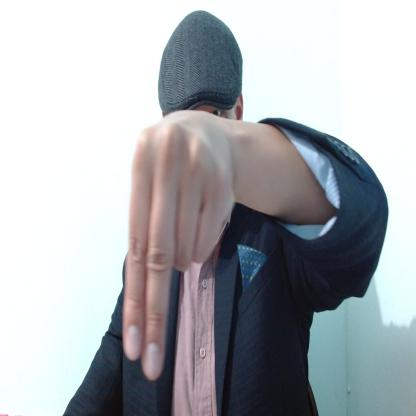N: (124, 112, 233, 382)
